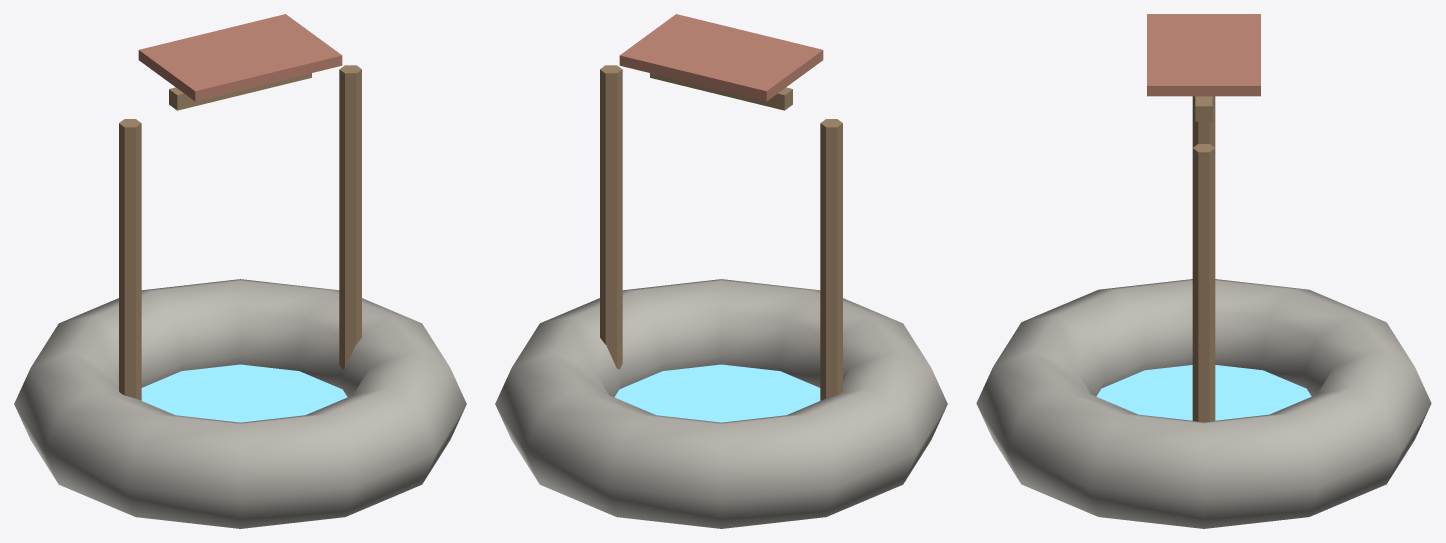
File: stone_well.glb
3 renders of one model, left to right at view 1: azimuth 30°, elevation 25°; view 2: azimuth 150°, elevation 25°; view 3: azimuth 270°, elevation 25°, orthographic.
Parts seen in each view (by area): view 1: WellRing, WellRoof, WellWater, WellPost_0.45, WellPost_-0.45, WellBeam; view 2: WellRing, WellRoof, WellWater, WellPost_0.45, WellPost_-0.45, WellBeam; view 3: WellRing, WellRoof, WellWater, WellPost_0.45, WellPost_-0.45.
Boxes of the visible parts, x1,y1,x2,y2 form: WellRing: [14, 279, 466, 528]; WellRoof: [138, 14, 342, 101]; WellWater: [141, 364, 347, 422]; WellPost_0.45: [339, 65, 361, 369]; WellPost_-0.45: [119, 119, 141, 400]; WellBeam: [169, 73, 311, 110]; WellRing: [495, 279, 947, 528]; WellRoof: [619, 14, 823, 101]; WellWater: [614, 364, 820, 422]; WellPost_0.45: [600, 65, 622, 369]; WellPost_-0.45: [820, 119, 842, 400]; WellBeam: [650, 73, 792, 110]; WellRing: [976, 279, 1431, 528]; WellRoof: [1147, 14, 1260, 96]; WellWater: [1096, 365, 1311, 420]; WellPost_0.45: [1192, 144, 1215, 422]; WellPost_-0.45: [1192, 96, 1215, 147].
Size of the model in its own units: 1.6 by 1.57 by 1.6.
